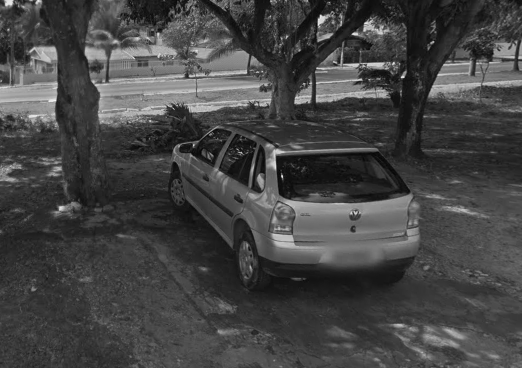car: (161, 113, 425, 296)
